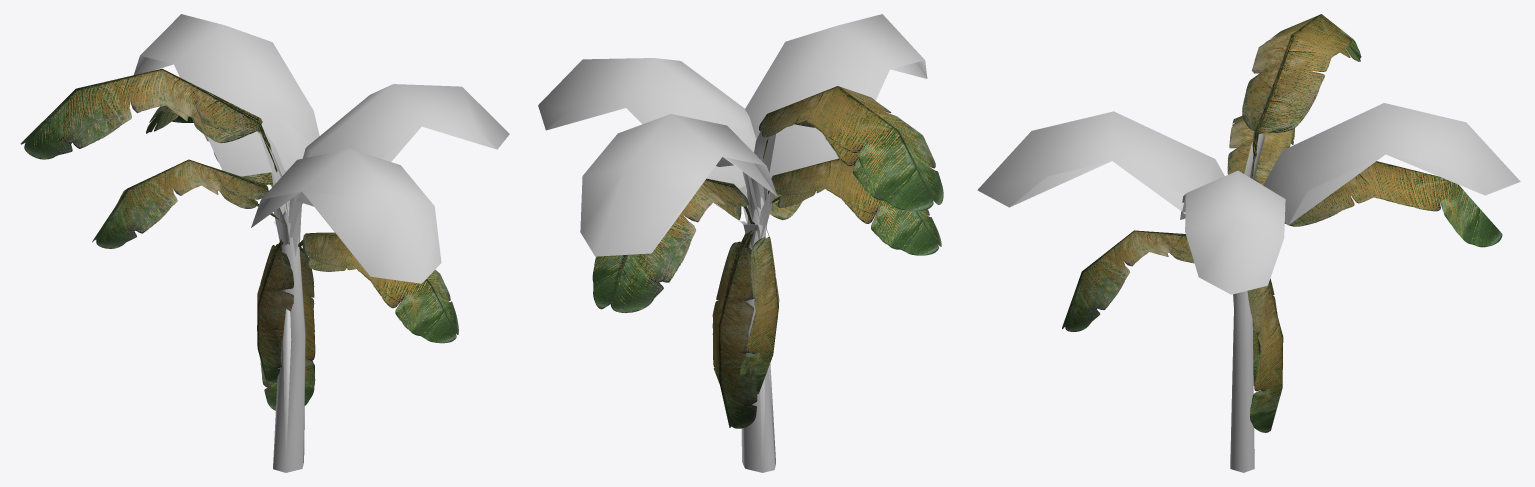
Rendered from Banana02.DAE.
3 views of the same model, side by side, from view 1: azimuth 30°, elevation 25°; view 2: azimuth 150°, elevation 25°; view 3: azimuth 270°, elevation 25° (orthographic). The views are drawn at different scales.
Visible parts, largest first — view 1: NanaTree256, NanaTree128; view 2: NanaTree256, NanaTree128; view 3: NanaTree256, NanaTree128.
Part boxes in pixels (x1,y1,x2,y2): NanaTree256: (20, 14, 509, 472); NanaTree128: (57, 58, 496, 470); NanaTree256: (538, 14, 943, 472); NanaTree128: (546, 14, 926, 467); NanaTree256: (977, 14, 1520, 472); NanaTree128: (1010, 14, 1484, 432).
Size of what is drawn, in the model's own units: 0.00239 by 0.0027 by 0.00211.
